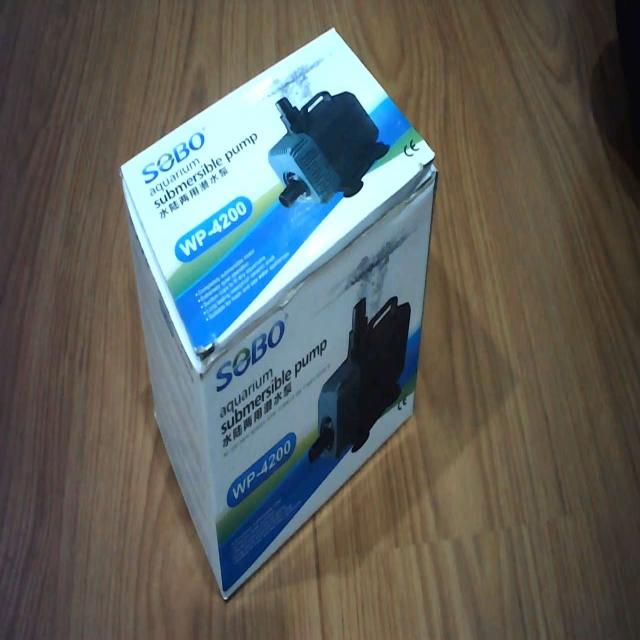SOBO_WP_4200: (117, 16, 445, 607)
